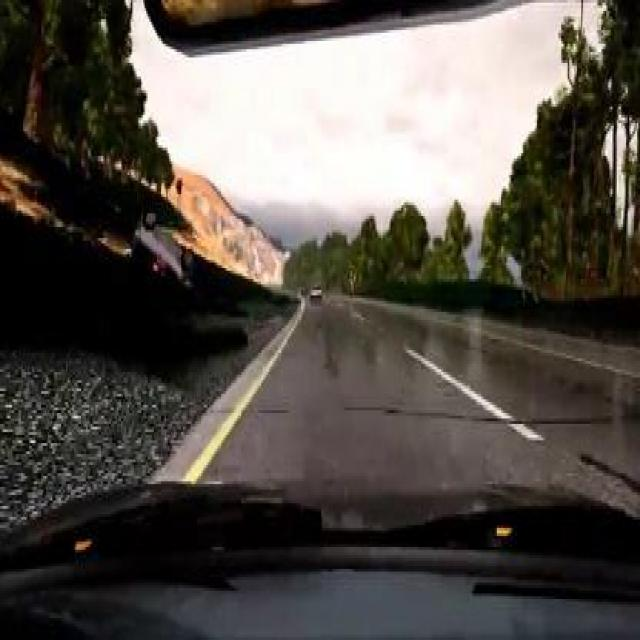accident: (128, 197, 192, 301)
